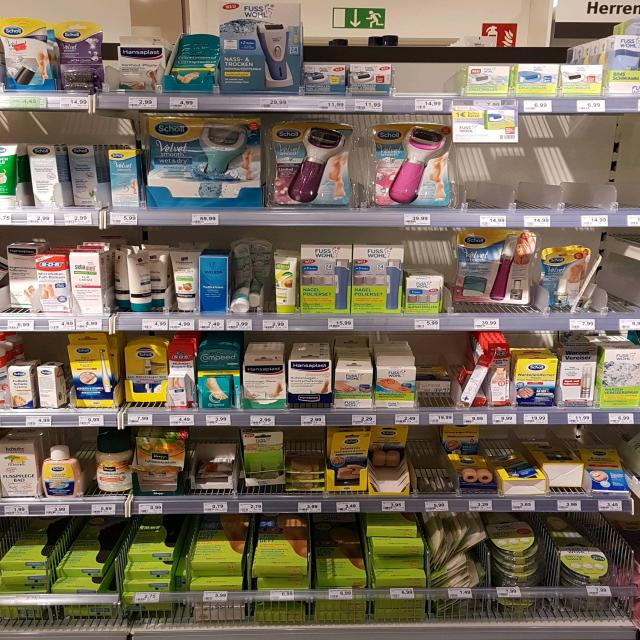empty: (469, 114, 626, 224), (384, 51, 463, 97), (407, 418, 449, 496)
